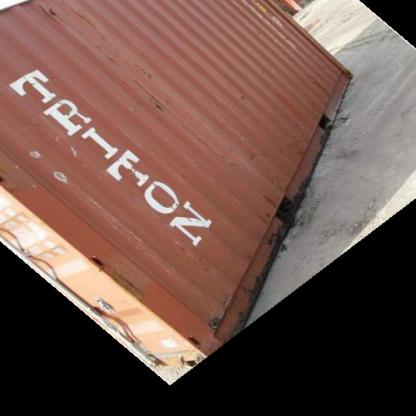Damage: (130, 62, 166, 116), (303, 67, 338, 102), (254, 180, 278, 224), (32, 2, 66, 26), (203, 305, 219, 332)
